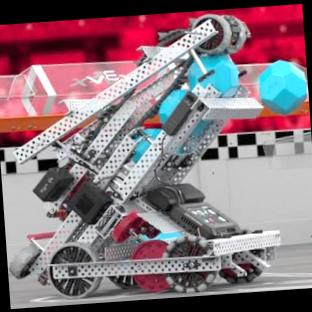Robot: (8, 13, 309, 299)
